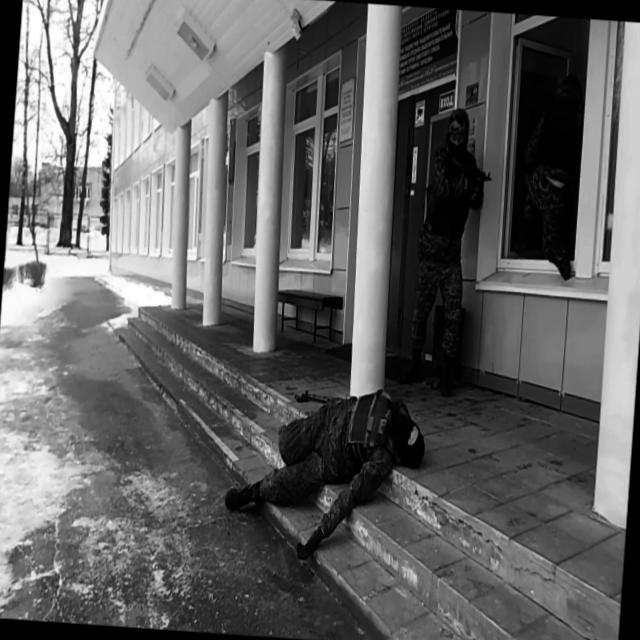gun: (445, 150, 494, 204)
person: (221, 377, 428, 568), (512, 68, 586, 278)
person with a gun: (399, 102, 496, 395)
